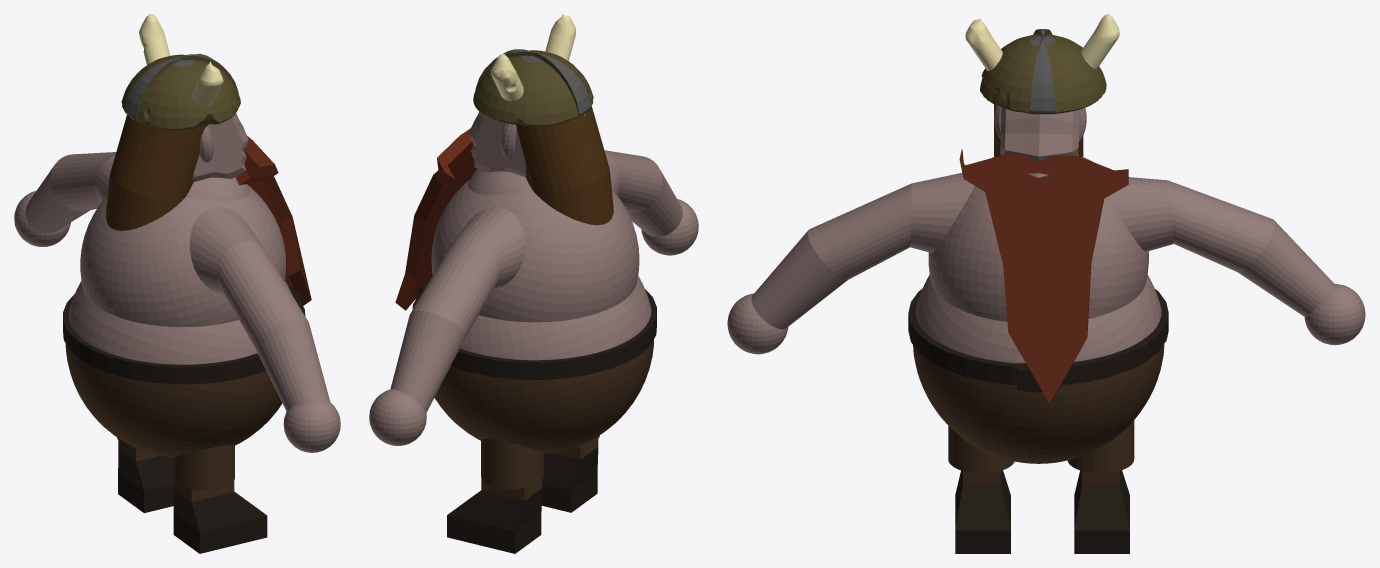
The model's file is Vikinger Charakter 1.fbx.
3 renders of one model, left to right at view 1: azimuth 30°, elevation 25°; view 2: azimuth 150°, elevation 25°; view 3: azimuth 270°, elevation 25°, orthographic. The views are drawn at different scales.
Parts seen in each view (by area): view 1: Vikinger; view 2: Vikinger; view 3: Vikinger.
Part boxes in pixels (x1=…): Vikinger: x1=14, y1=14, x2=340, y2=553; Vikinger: x1=369, y1=14, x2=698, y2=553; Vikinger: x1=727, y1=14, x2=1365, y2=553.
Size of the model in its own units: 152 by 294 by 330.
